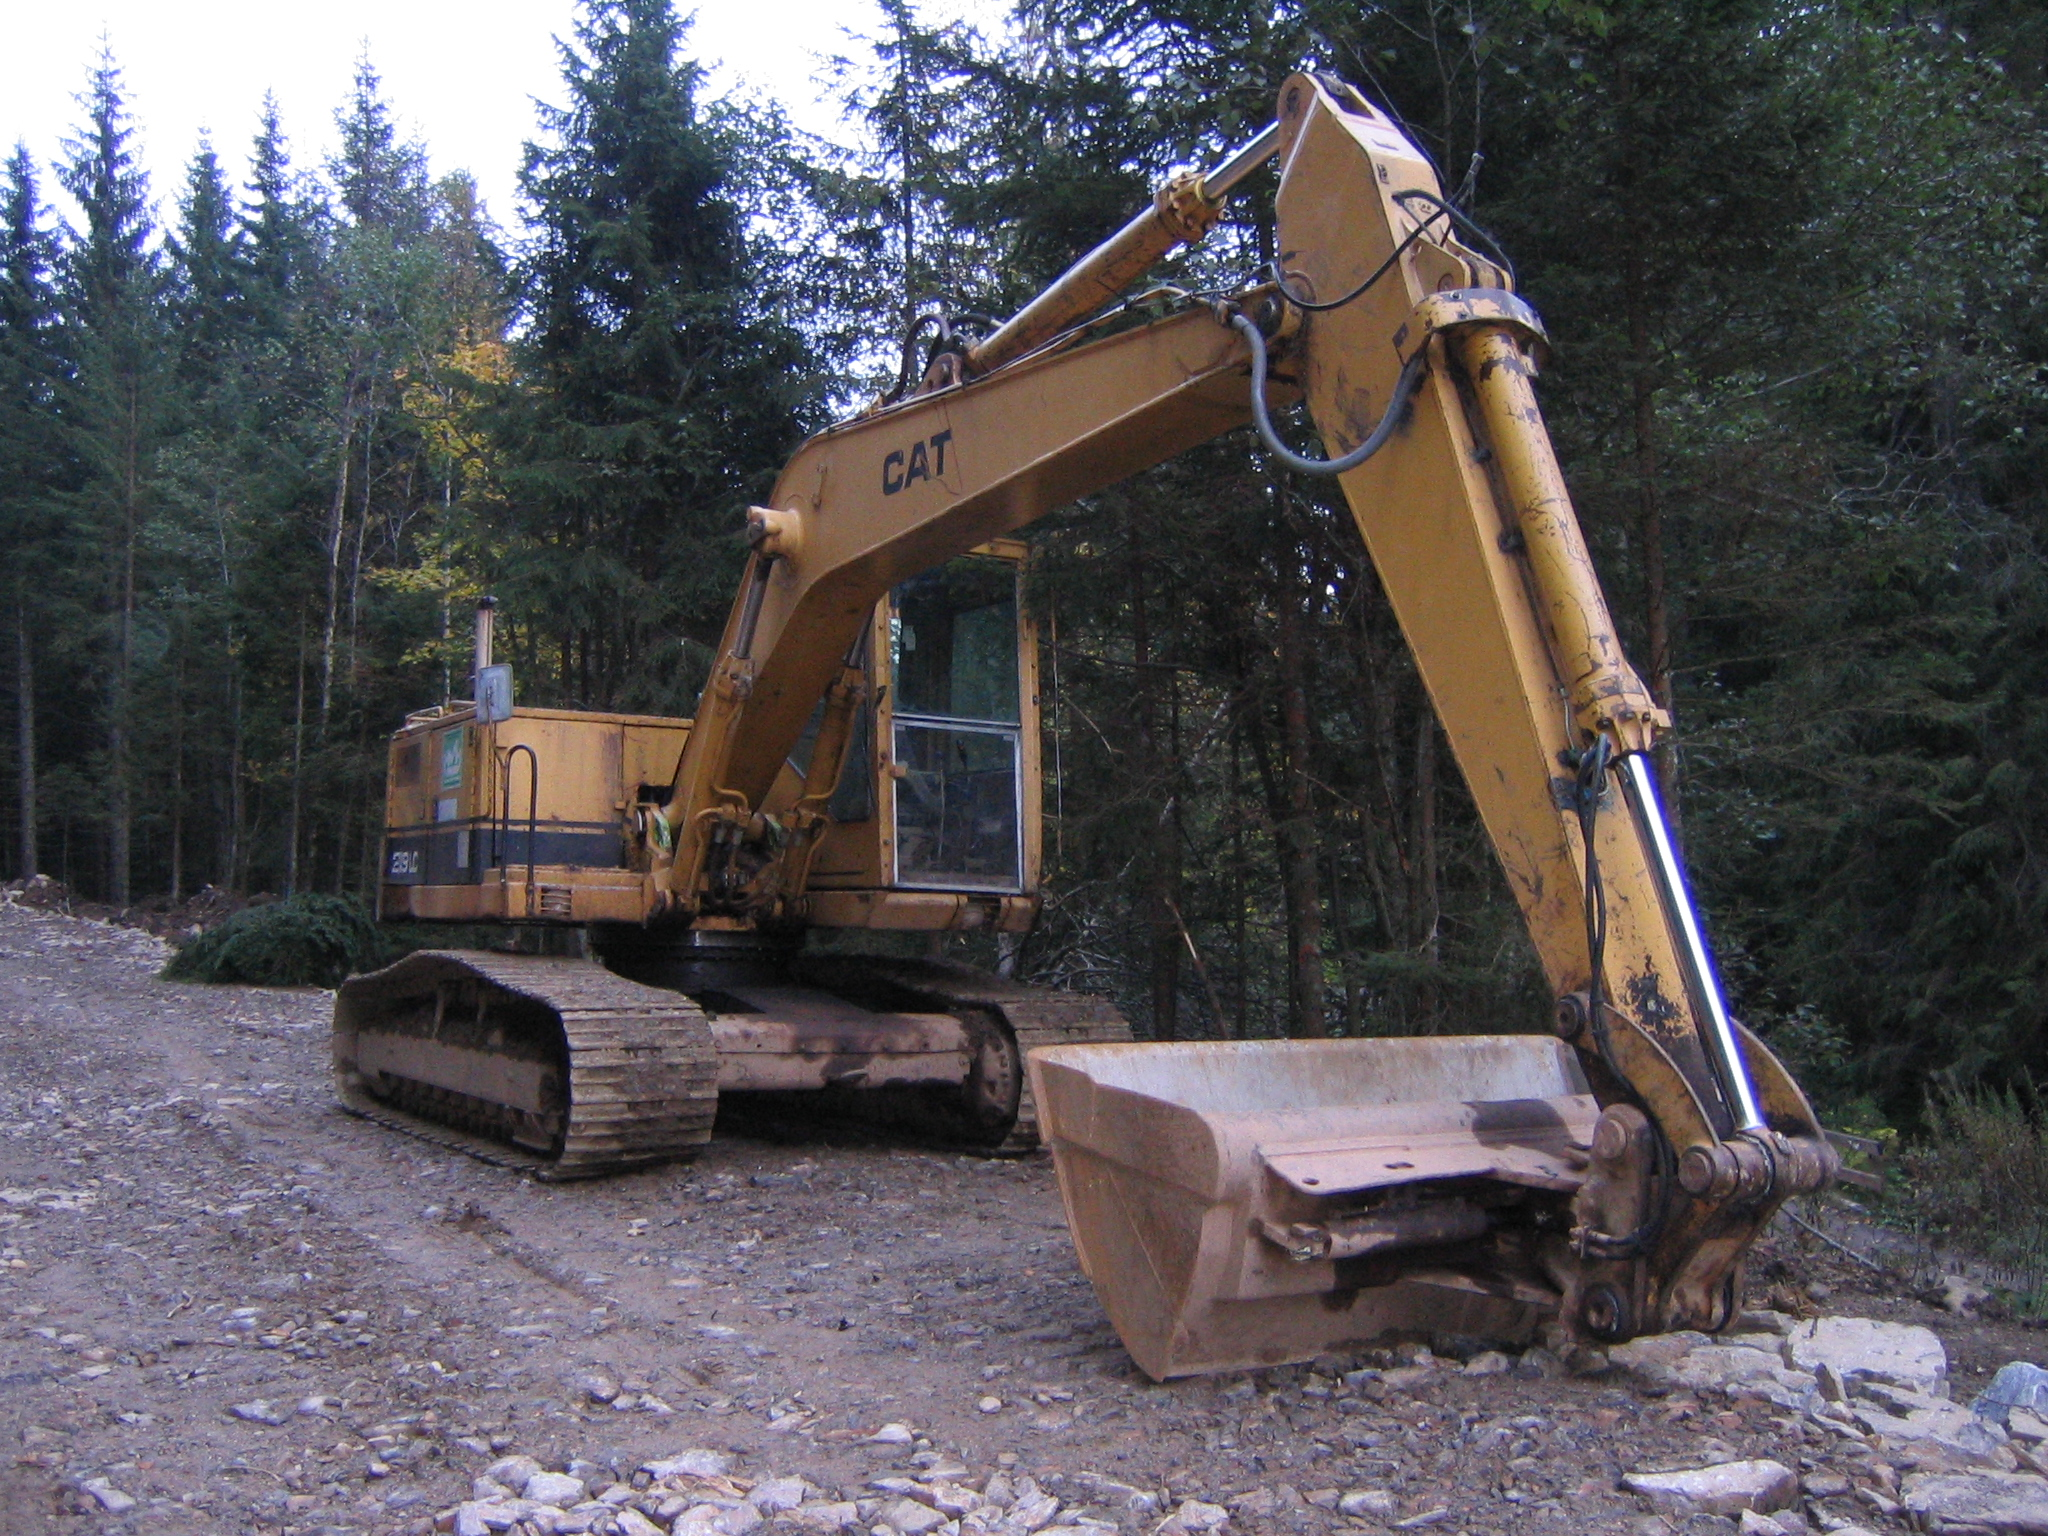excavator: (324, 81, 1830, 1371)
